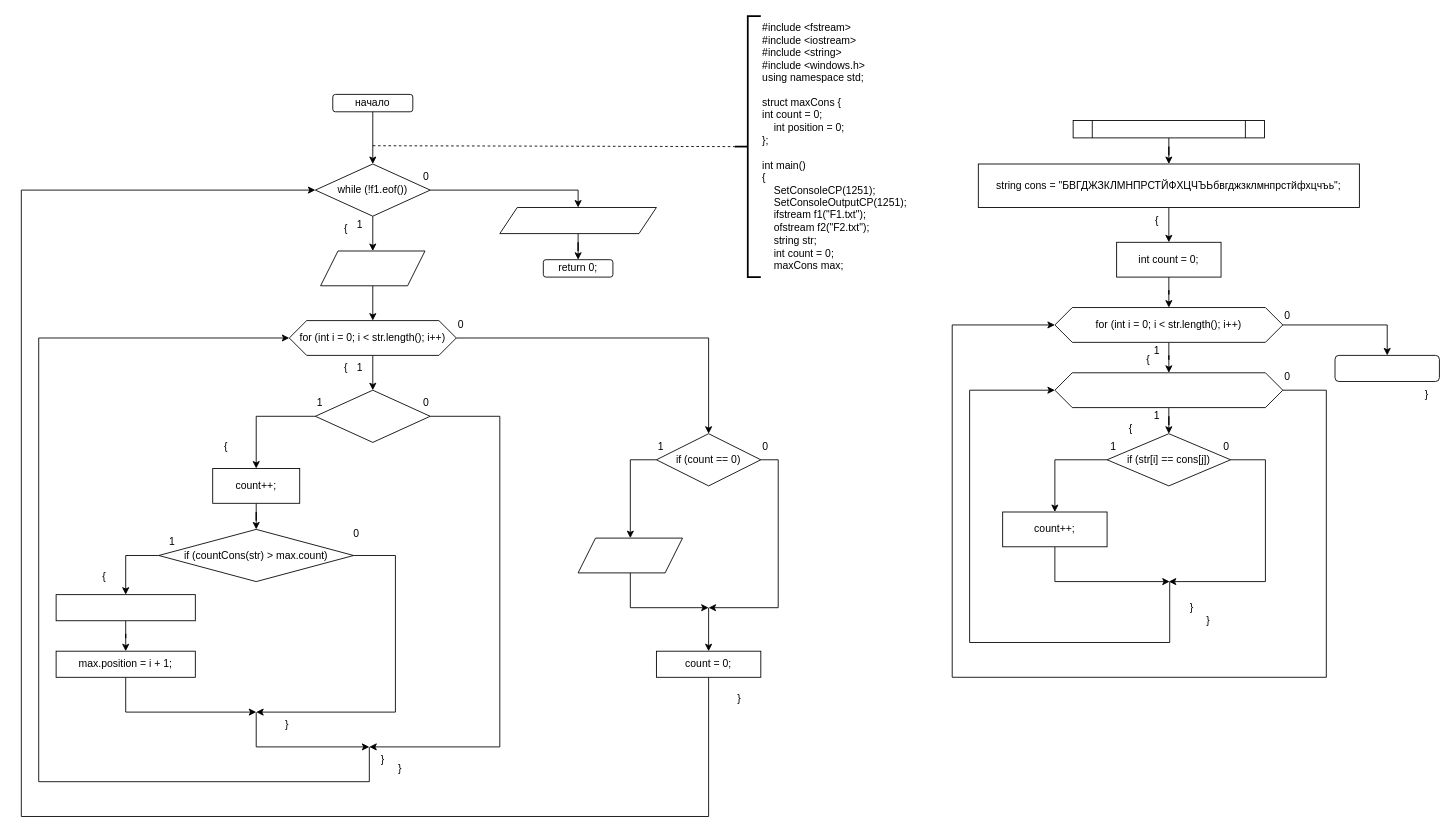
This 1455x839 diagram has some shape labels left out. The box of each missing label's shape, as (x1, y1, x2, y2) in pixels:
f2 << max.position << endl;: (499, 207, 656, 234)
f2 << str << endl;: (577, 537, 683, 573)
for (int j = 0; j < cons.length(); j++): (1054, 372, 1283, 408)
getline(f1, str);: (320, 250, 425, 286)
if (str[i] == ' '): (315, 389, 430, 442)
int countCons(string str): (1072, 120, 1265, 138)
max.count = countCons(str);: (55, 594, 195, 621)
return count;: (1334, 355, 1439, 381)
